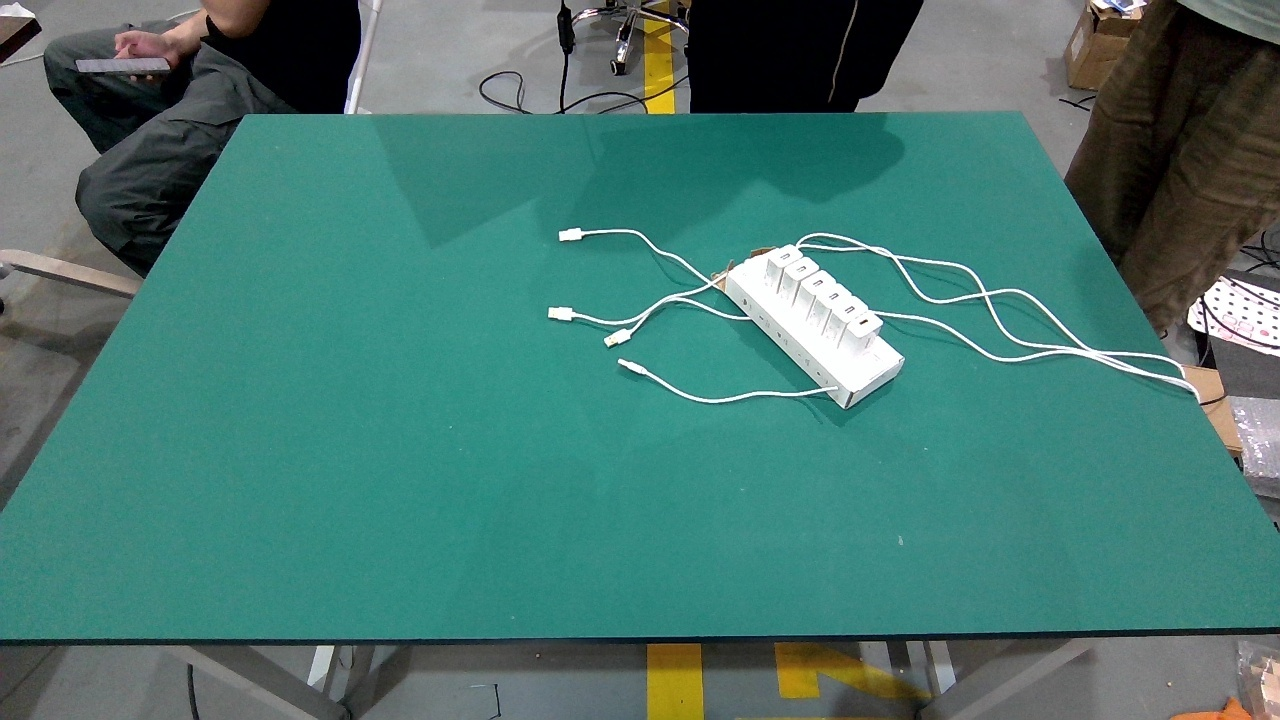usb_a_plug: (602, 323, 640, 350), (616, 357, 653, 378), (547, 306, 582, 322), (558, 227, 590, 242)
